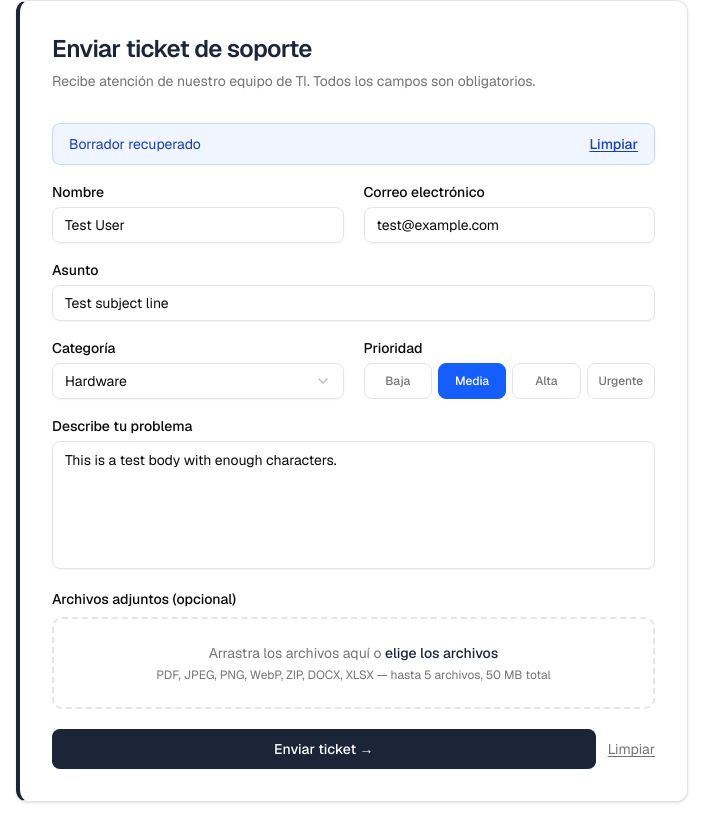
Test: Recovery banner › 'Limpiar' link in banner opens confirm state
The image size is (705, 826).
Expected: the text "Borrador recuperado" is shown, [69, 134, 201, 154]
Click the button "Limpiar" in the row of "Borrador recuperado". click: click(614, 144)
box: [589, 134, 638, 154]
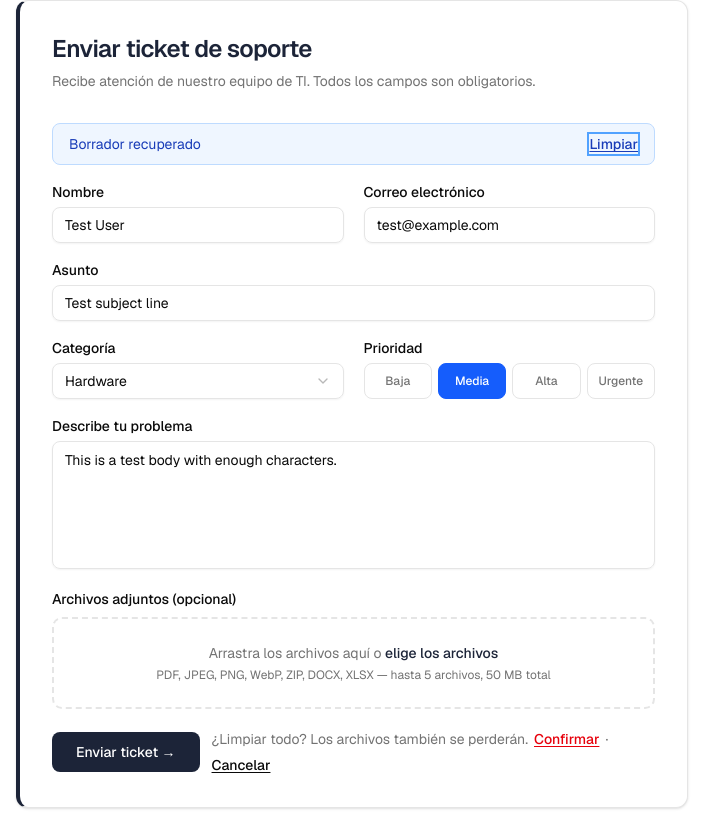
Expected: the text "¿Limpiar todo? Los archivos también se perderán." is shown, [212, 729, 528, 749]
Expected: the button "Confirmar" is shown, [534, 729, 599, 749]
Expected: the button "Cancelar" is shown, [212, 755, 270, 775]
